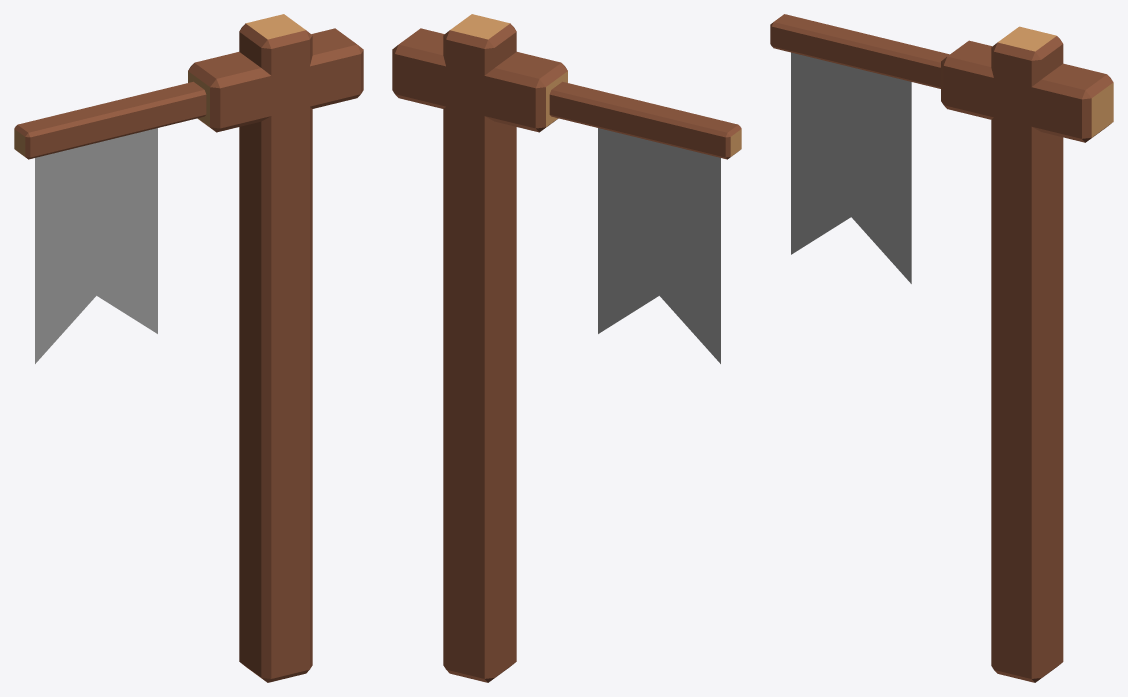
File: Flag.fbx
3 views of the same model, side by side, from view 1: azimuth 30°, elevation 25°; view 2: azimuth 150°, elevation 25°; view 3: azimuth 330°, elevation 25° (orthographic).
Visible parts, largest first — view 1: Flag_Pillar, Flag; view 2: Flag_Pillar, Flag; view 3: Flag_Pillar, Flag.
Part boxes in pixels (x1,y1,x2,y2): Flag_Pillar: (14,14,363,682); Flag: (35,128,157,363); Flag_Pillar: (392,14,741,682); Flag: (598,128,720,363); Flag_Pillar: (770,14,1113,682); Flag: (791,52,911,283).
Bounding box in the file's own units: 0.65 × 1.2 × 0.1.
